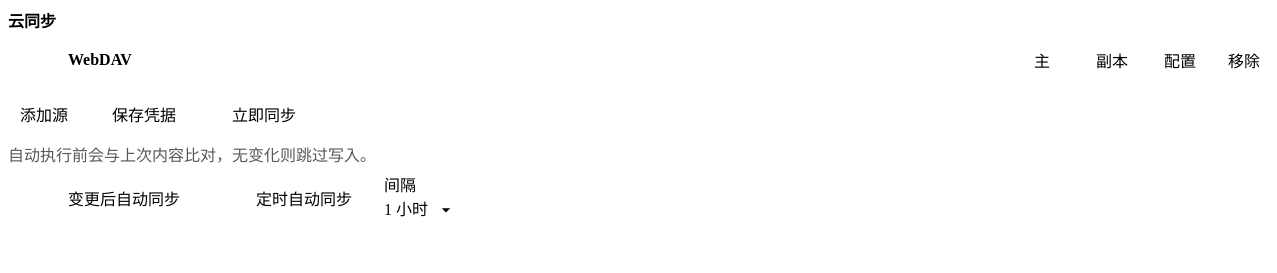
Test: CloudCard（多源） › ⑨未启用任何云源：提示错误且不调同步编排
The image size is (1277, 273).
Click the button with class "cloud-sync" at coordinates (264, 114), box x1=208 y1=94 x2=320 y2=134
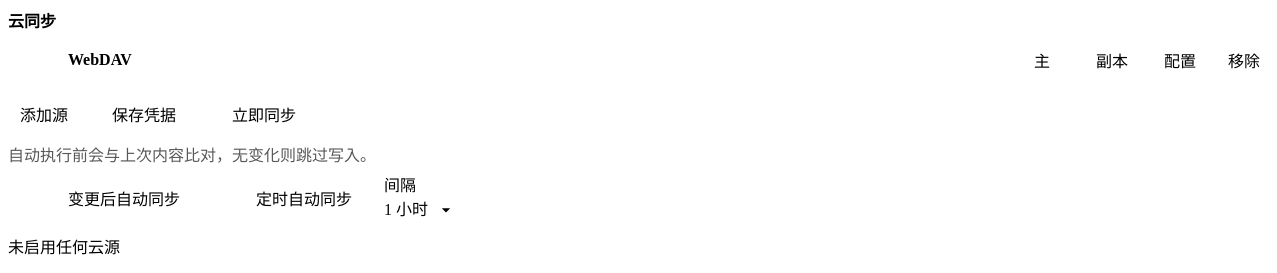
Expected: the text "未启用任何云源" is shown, x1=8 y1=239 x2=120 y2=256
